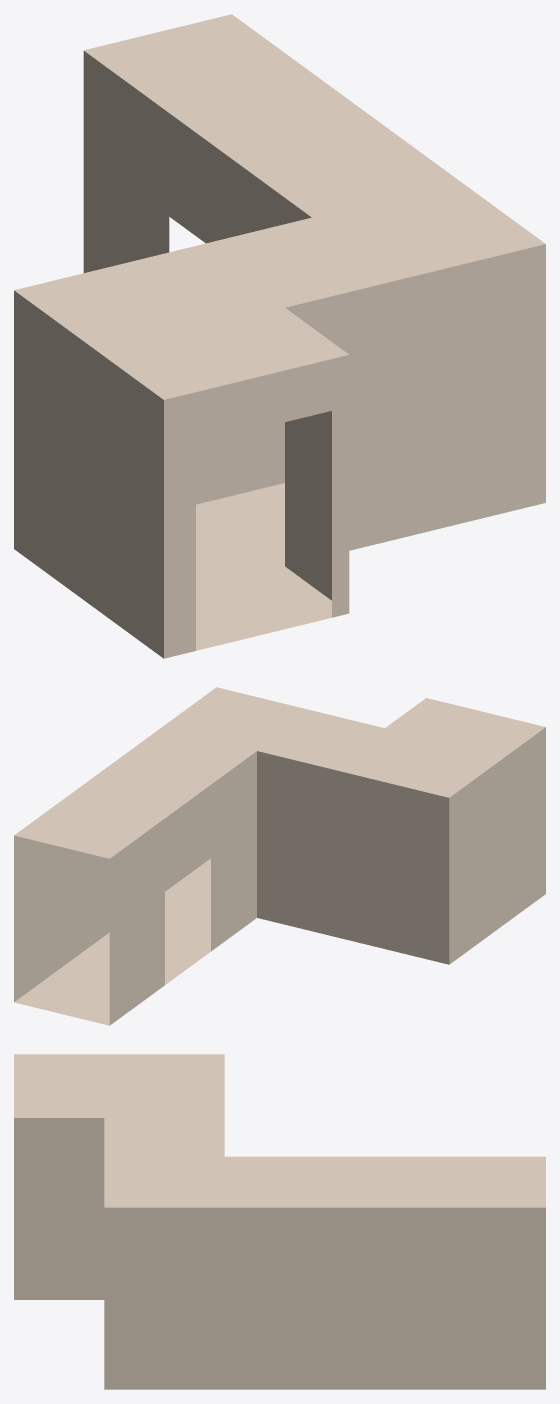
The model's file is L27-Hallway.obj.
The picture shows the model from 3 angles, top to bottom: view 1: azimuth 30°, elevation 25°; view 2: azimuth 150°, elevation 25°; view 3: azimuth 270°, elevation 25°; orthographic projection. The views are drawn at different scales.
Visible parts, largest first — view 1: L27-Hallway; view 2: L27-Hallway; view 3: L27-Hallway.
Boxes of the visible parts, box(x1,y1,x2,y2) form: L27-Hallway: box(14, 14, 545, 658); L27-Hallway: box(14, 687, 545, 1025); L27-Hallway: box(14, 1054, 545, 1389).
Bounding box in the file's own units: 9.03 × 5 × 13.25.
